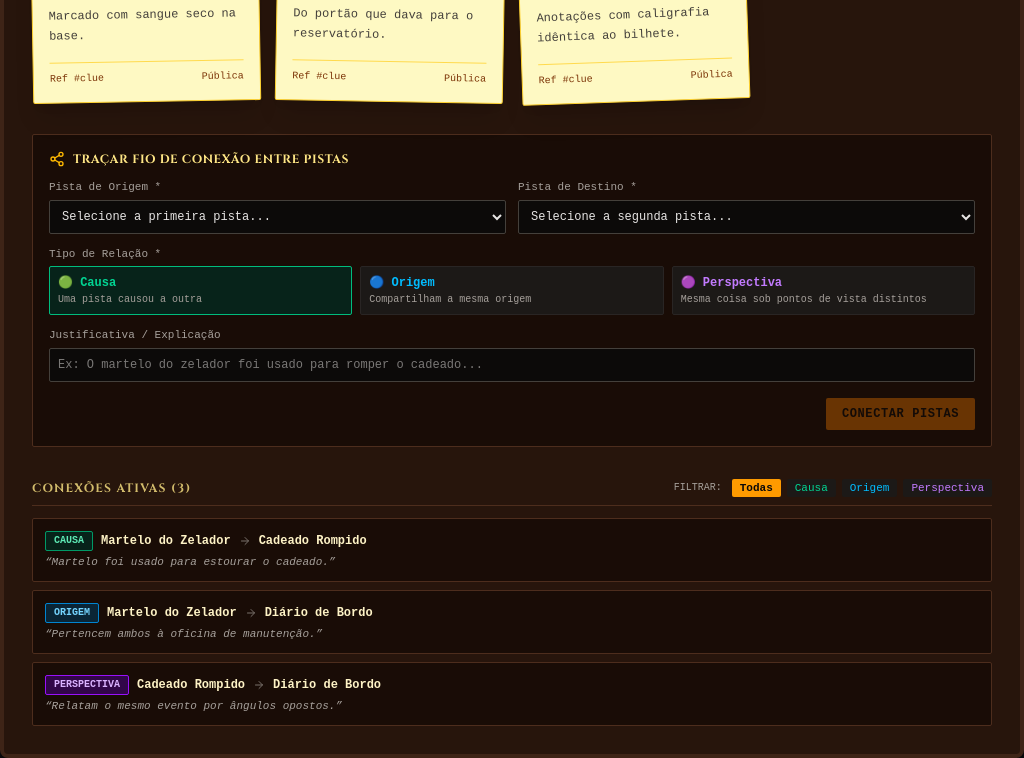
Scenario: MissingInvestigationBoard Component › filtra conexões por tipo
(page scrolled)
Check: the element with test id "conexao-item-conn-1" is shown, box [32,518,992,582]
Check: the element with test id "conexao-item-conn-2" is shown, box [32,590,992,654]
Note: Filtra apenas por Causa
Click the button with test id "filtro-causa".
click(811, 488)  # box [787,479,836,498]
(page scrolled)
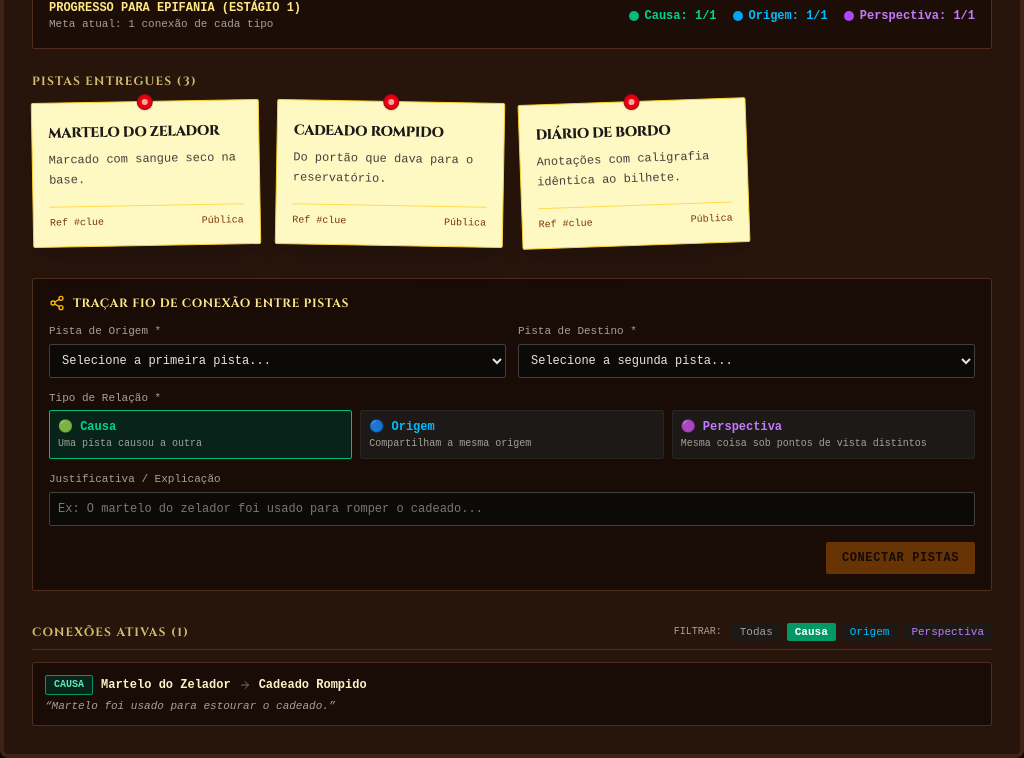
Check: the element with test id "conexao-item-conn-1" is shown, box [32,662,992,726]
Check: the element with test id "conexao-item-conn-2" is gone
Check: the element with test id "conexao-item-conn-3" is gone
